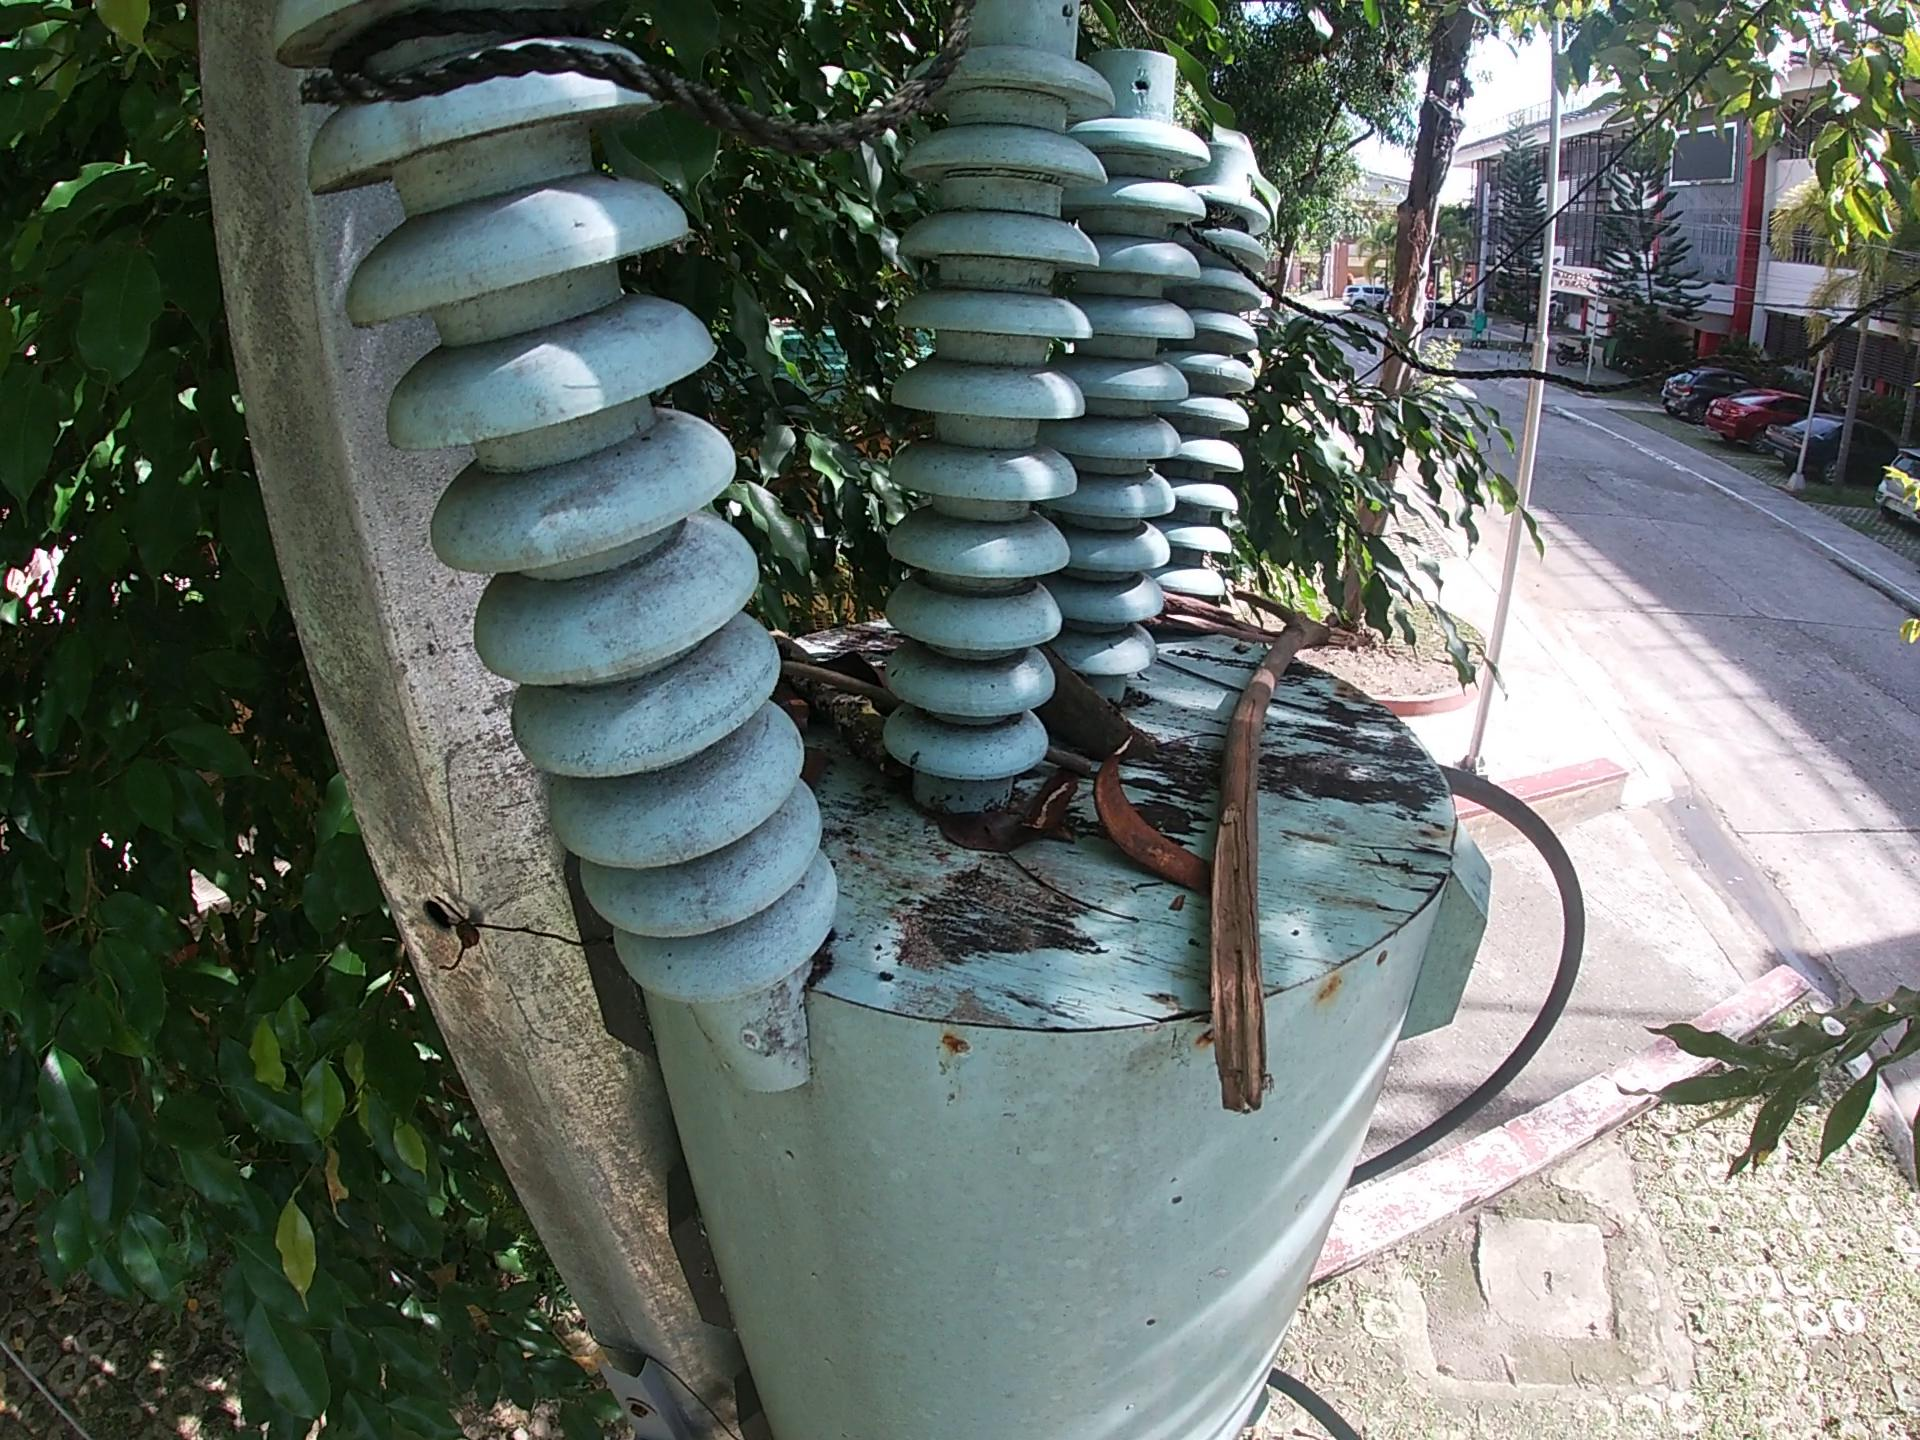leaf: (921, 805, 1005, 850)
mahogany fruit: (1084, 758, 1194, 886), (1039, 661, 1170, 767)
tree branch: (1199, 582, 1359, 1122), (771, 635, 892, 761), (1141, 656, 1342, 722), (1004, 856, 1154, 935), (1163, 590, 1274, 640), (776, 661, 890, 705), (1013, 782, 1076, 836), (1039, 749, 1092, 777)
